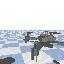drone: (22, 31, 63, 62)
